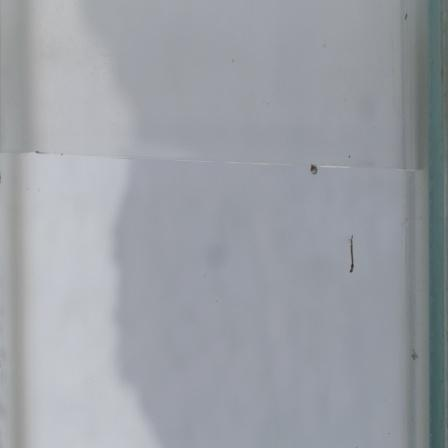Jentik-Nyamuk: (346, 232, 361, 275), (306, 162, 321, 177)
